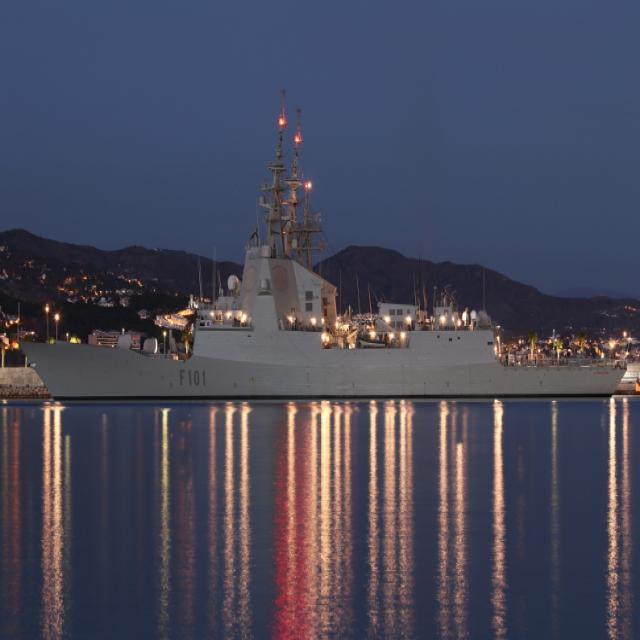Fragata: (14, 85, 629, 406)
